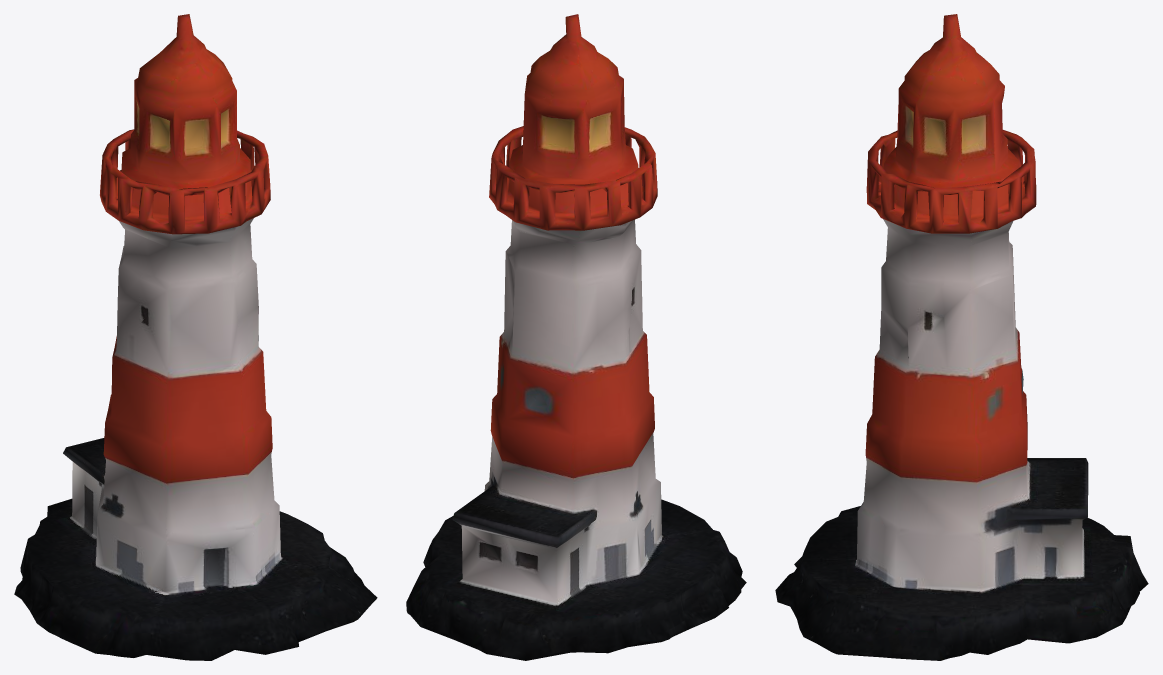
Rendered from demo_lighthouse_pixel.glb.
3 renders of one model, left to right at view 1: azimuth 30°, elevation 25°; view 2: azimuth 150°, elevation 25°; view 3: azimuth 270°, elevation 25°, orthographic.
Parts seen in each view (by area): view 1: tripo_node_633c34f4-8d1c-4dc3-beee-5752698efb1c.001; view 2: tripo_node_633c34f4-8d1c-4dc3-beee-5752698efb1c.001; view 3: tripo_node_633c34f4-8d1c-4dc3-beee-5752698efb1c.001.
Part boxes in pixels (x1,y1,x2,y2): tripo_node_633c34f4-8d1c-4dc3-beee-5752698efb1c.001: [14, 14, 377, 660]; tripo_node_633c34f4-8d1c-4dc3-beee-5752698efb1c.001: [406, 14, 746, 660]; tripo_node_633c34f4-8d1c-4dc3-beee-5752698efb1c.001: [775, 14, 1148, 660].
Size of the model in its own units: 0.535 by 0.9981 by 0.5876.
Materials: 1 (1 with a texture image).
